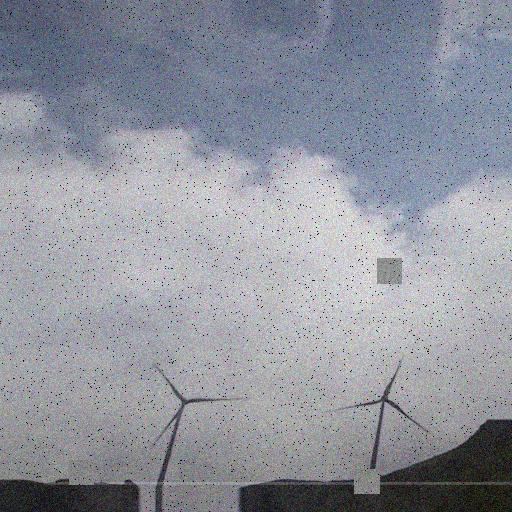wind turbine: (146, 361, 256, 485), (326, 357, 434, 476)
